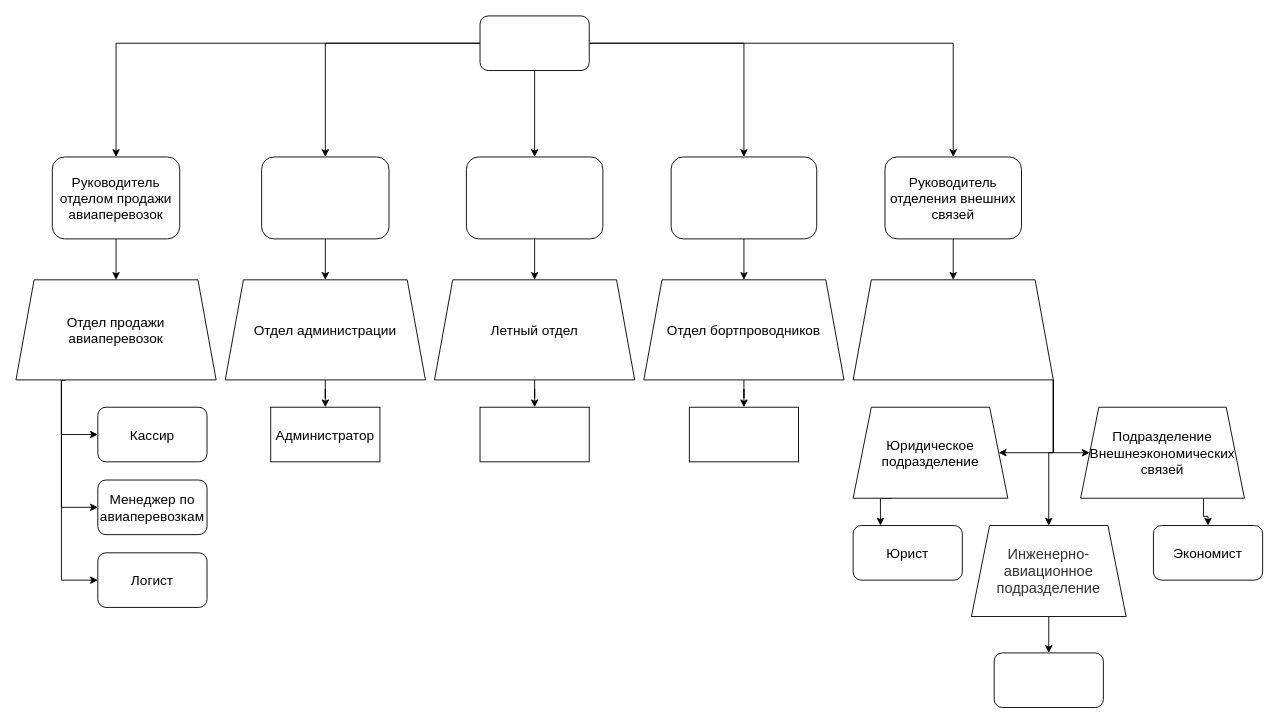
Image size: 1279x723. Some labels were removed from this diagram. The box of each missing label's shape, as (x1, y1, x2, y2) in pixels:
Бортпроводник: (688, 406, 799, 462)
Генеральный директор: (479, 15, 589, 71)
Летный техник: (993, 652, 1103, 708)
Отдел внешних связей: (852, 279, 1053, 380)
Пилот: (479, 406, 589, 462)
Руководитель административным отделом: (261, 156, 389, 239)
Руководитель летным отделом: (465, 156, 603, 239)
Руководитель отделом бортпроводников: (670, 156, 817, 239)
